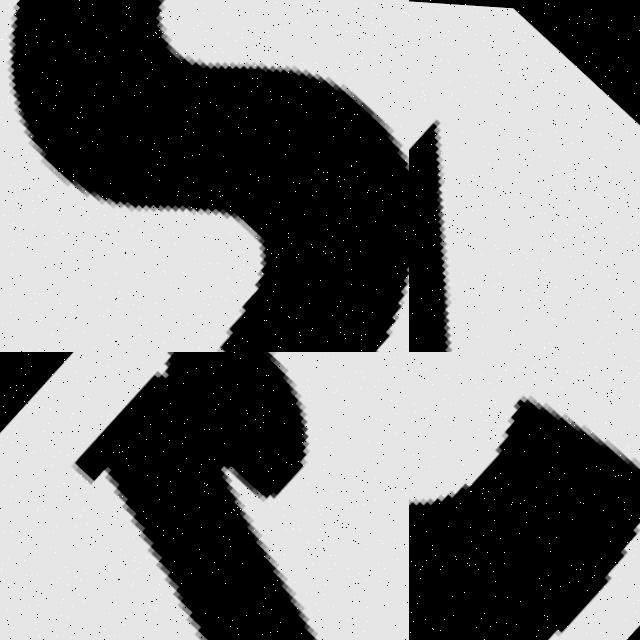C: (409, 388, 640, 640)
K: (409, 0, 640, 352)
R: (0, 352, 409, 640)
S: (0, 0, 409, 352)
